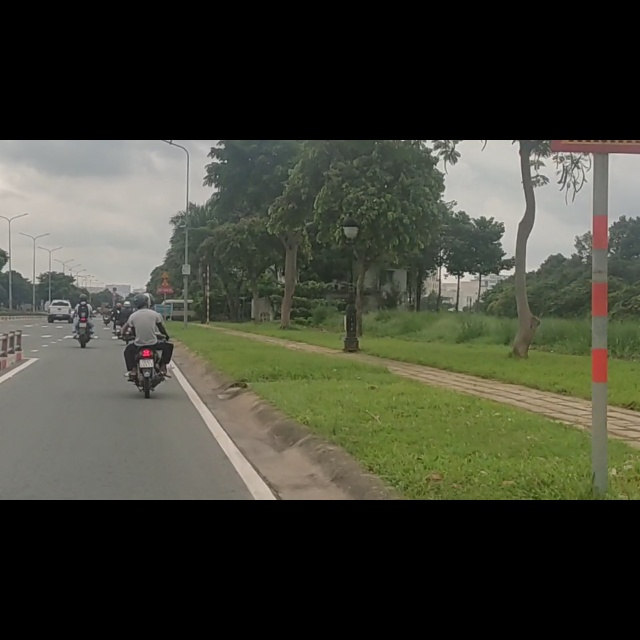bien_cam: (161, 232, 170, 247), (161, 247, 170, 261), (112, 262, 117, 268)
